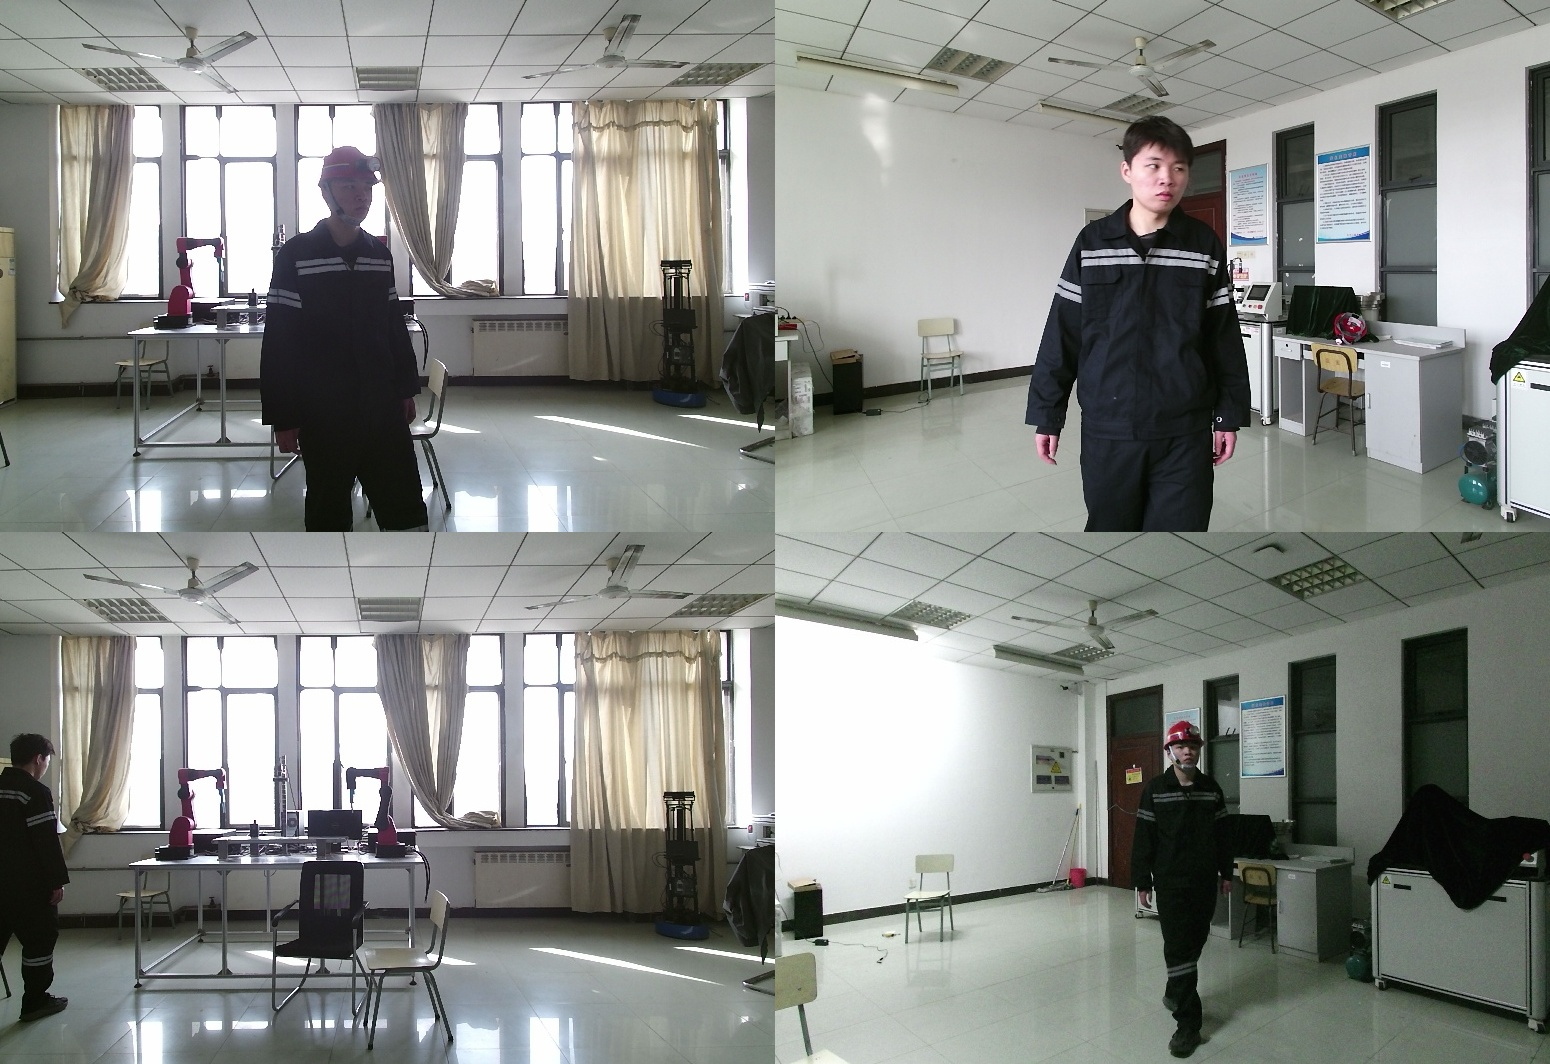person: (1029, 116, 1257, 532), (269, 148, 438, 532), (1125, 716, 1250, 1053), (2, 734, 75, 1030)
